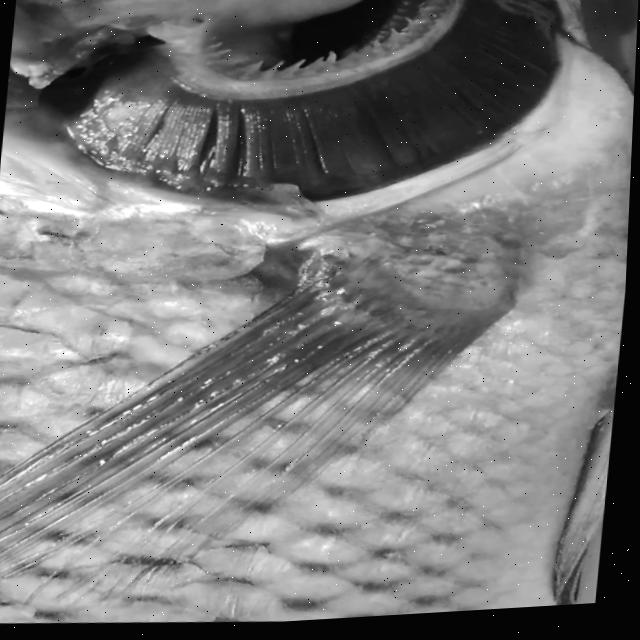Non-Fresh: (73, 0, 580, 244)
